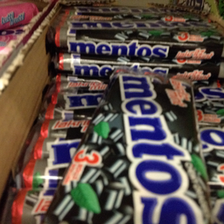candy: (68, 66, 198, 224), (49, 3, 219, 69)
